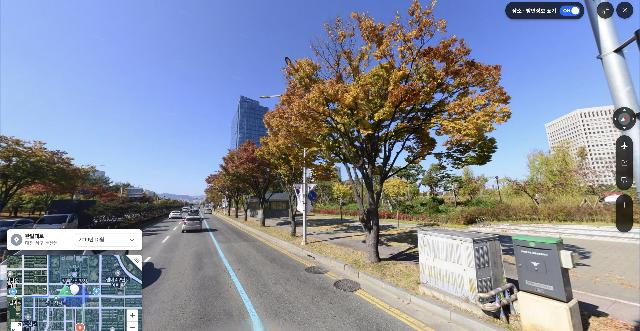ginkgo: (382, 177, 412, 230), (331, 181, 352, 223)
other: (261, 0, 513, 266), (0, 135, 84, 219), (218, 139, 288, 228), (552, 148, 601, 211), (514, 149, 562, 206), (204, 171, 246, 221)
